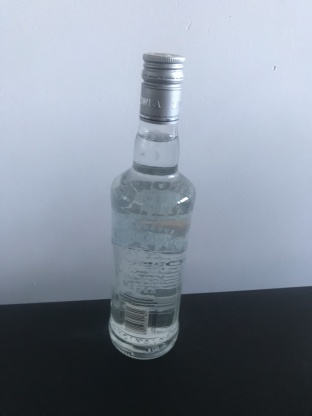nakretka: (137, 50, 186, 126)
